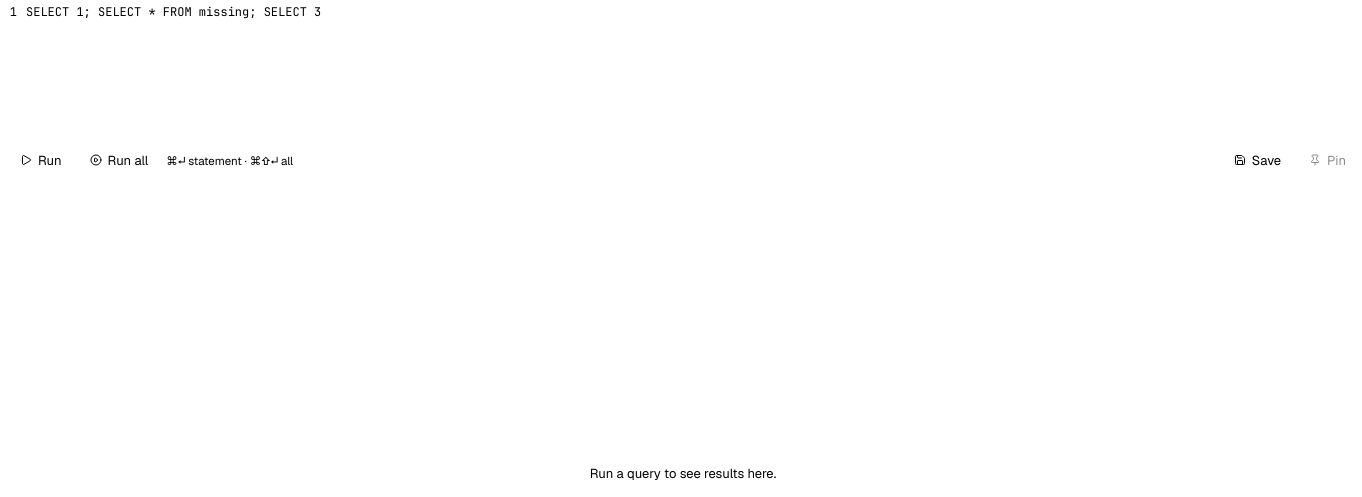
QueryTab › when a statement of a script fails › shows the earlier result and names the failed statement
What coordinates should you click on to do the following:
click the button "Run all"
I would click on:
 (119, 160)
Its box is [80,147,158,173].
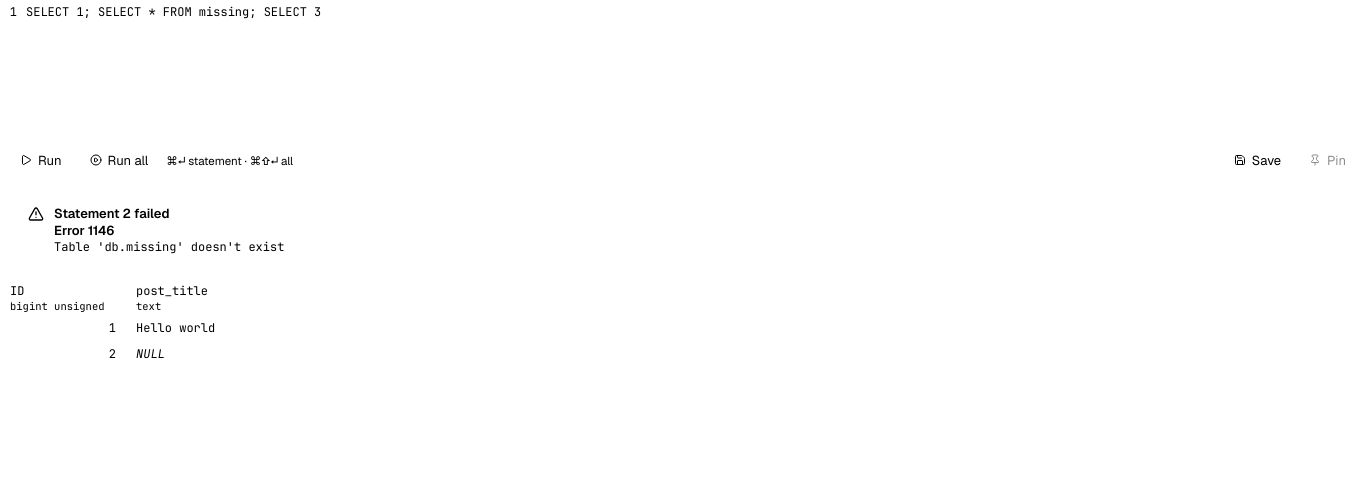
Expected: the message shows "Statement 2 failed", [54,205,170,222]
Expected: the message shows "Error 1146", [28,205,284,255]
Expected: the message shows "Table 'db.missing' doesn't exist", [54,239,284,255]
